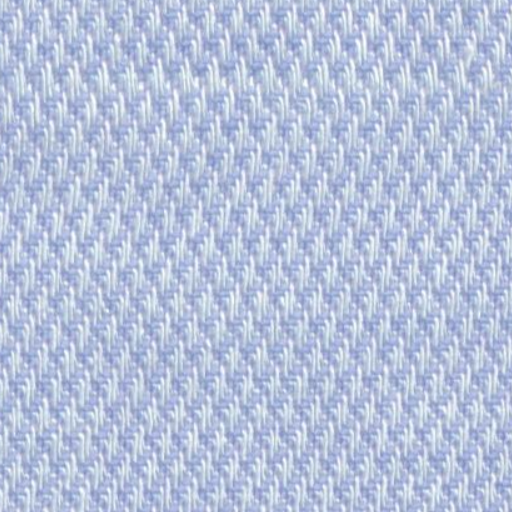TuoSha: (20, 39, 484, 128)
